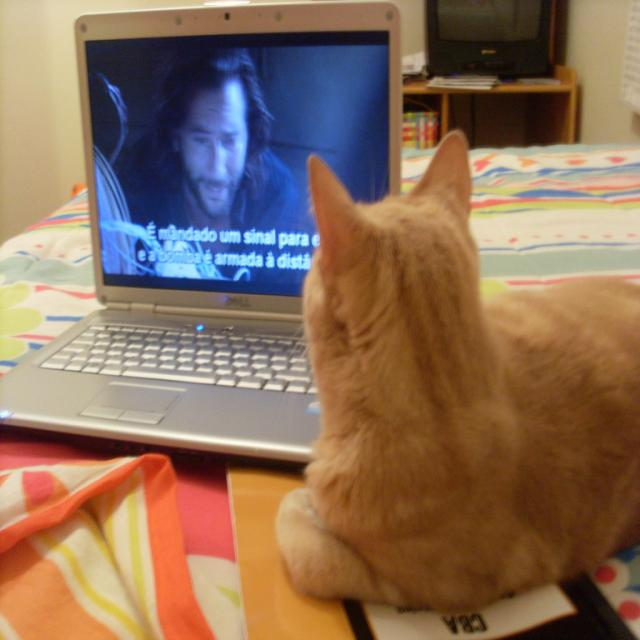desk: (402, 63, 579, 145)
laptop: (4, 12, 420, 476)
person: (113, 40, 308, 249)
tv: (425, 1, 554, 78)
